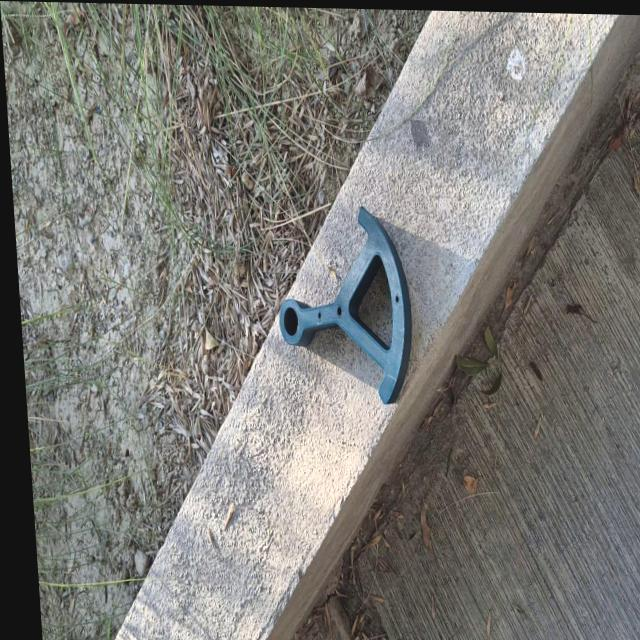haptic: (271, 202, 418, 406)
